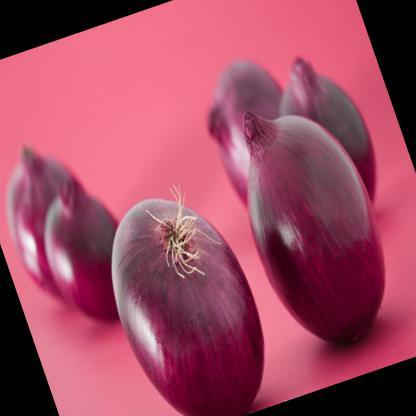onion: (209, 73, 415, 369), (80, 157, 289, 415)
